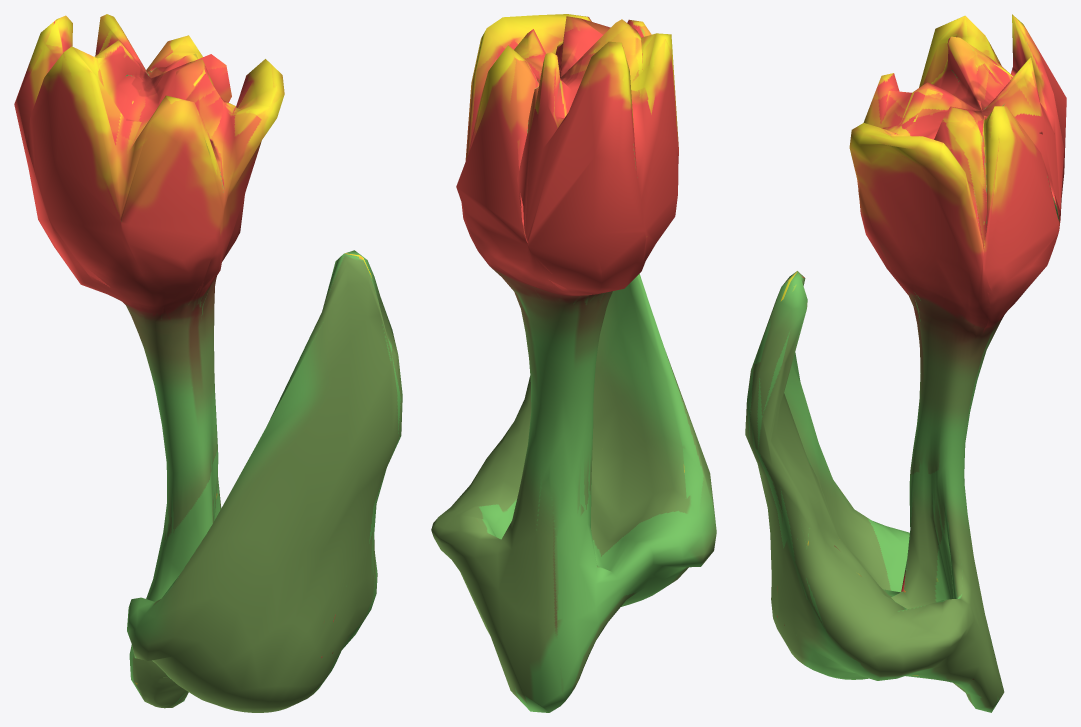
The model's file is tulip.glb.
3 renders of one model, left to right at view 1: azimuth 30°, elevation 25°; view 2: azimuth 150°, elevation 25°; view 3: azimuth 270°, elevation 25°, orthographic. The views are drawn at different scales.
Visible parts, largest first — view 1: Sphere; view 2: Sphere; view 3: Sphere.
Boxes of the visible parts, left/top/right/bottom form: Sphere: left=14, top=14, right=402, bottom=712; Sphere: left=431, top=14, right=716, bottom=712; Sphere: left=745, top=14, right=1066, bottom=712.
Bounding box in the file's own units: 2.41 × 6.03 × 2.69.
Materials: 1 (1 with a texture image).
